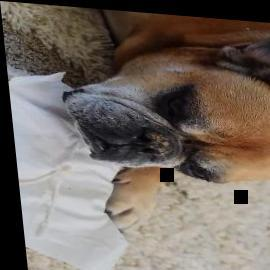keratosis: (133, 123, 171, 158)
